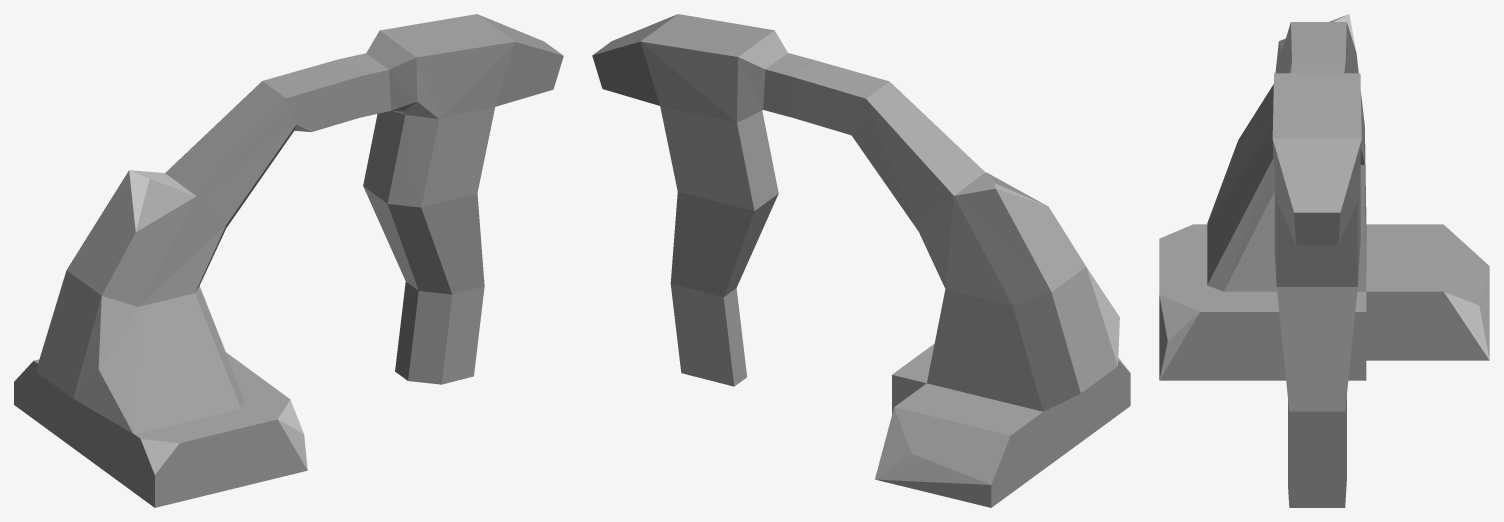
The model's file is ruin_9.fbx.
3 views of the same model, side by side, from view 1: azimuth 30°, elevation 25°; view 2: azimuth 150°, elevation 25°; view 3: azimuth 270°, elevation 25° (orthographic). The views are drawn at different scales.
Visible parts, largest first — view 1: ruin_9; view 2: ruin_9; view 3: ruin_9.
Part boxes in pixels (<box>): ruin_9: <box>14,14,563,507</box>; ruin_9: <box>592,14,1130,507</box>; ruin_9: <box>1159,14,1489,507</box>.
Bounding box in the file's own units: 254 × 164 × 124.
